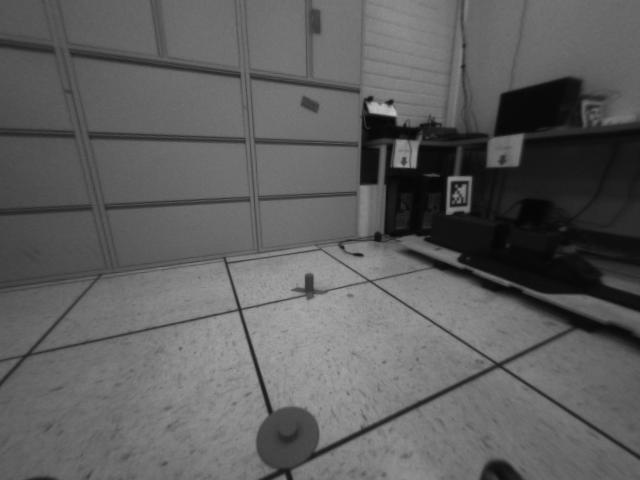X: (292, 272, 327, 300)
